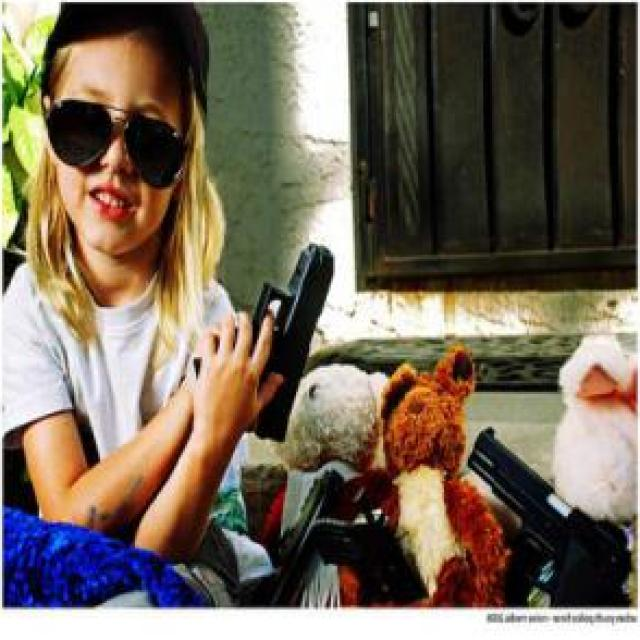pistol: (190, 242, 336, 444)
